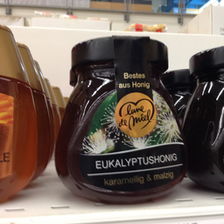honey: (61, 36, 192, 200)
